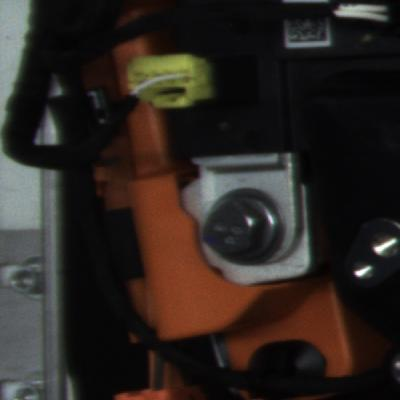nut_b: (197, 178, 292, 275)
